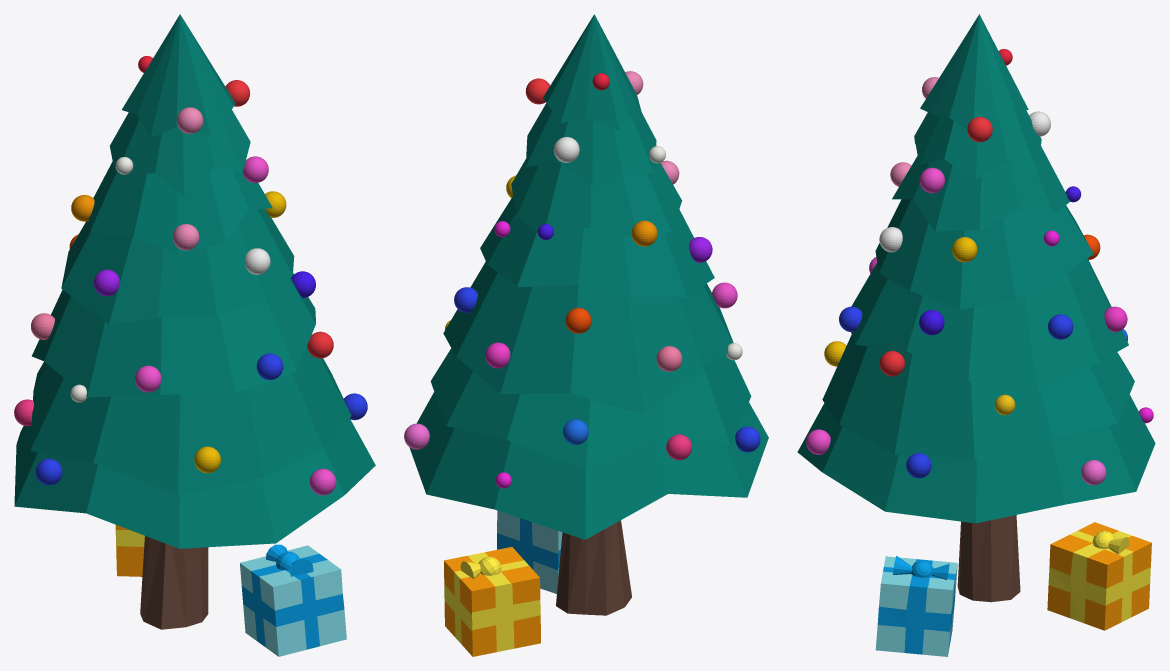
Rendered from treewithlight.glb.
3 renders of one model, left to right at view 1: azimuth 30°, elevation 25°; view 2: azimuth 150°, elevation 25°; view 3: azimuth 270°, elevation 25°, orthographic. The views are drawn at different scales.
Visible parts, largest first — view 1: node_MeshObject-1892698176-PolyPaper11, node_MeshObject750795776-PolyPaper8, Sphere.011, Sphere.026, Sphere.024, Sphere.014, Sphere.005, Sphere.030, Sphere.010, Sphere.018, Sphere.001, Sphere.004 (+1 smaller); view 2: node_MeshObject-1892698176-PolyPaper11, node_MeshObject750795776-PolyPaper8, Sphere.007, Sphere.008, Sphere.006, Sphere.019, Sphere.013, Sphere.025, Sphere.002, Sphere.026, Sphere.021, Sphere.014; view 3: node_MeshObject-1892698176-PolyPaper11, node_MeshObject750795776-PolyPaper8, Sphere.003, Sphere.015, Sphere.019, Sphere.009, Sphere.018, Sphere.020, Sphere.017, Sphere.029.
Boxes of the visible parts, <box> form: node_MeshObject-1892698176-PolyPaper11: <box>14,14,375,629</box>; node_MeshObject750795776-PolyPaper8: <box>115,525,346,656</box>; Sphere.011: <box>194,446,220,473</box>; Sphere.026: <box>36,458,62,485</box>; Sphere.024: <box>176,107,203,133</box>; Sphere.014: <box>135,365,161,392</box>; Sphere.005: <box>172,224,199,250</box>; Sphere.030: <box>309,468,336,495</box>; Sphere.010: <box>256,353,283,379</box>; Sphere.018: <box>307,331,333,358</box>; Sphere.001: <box>244,248,270,274</box>; Sphere.004: <box>93,269,119,296</box>; node_MeshObject-1892698176-PolyPaper11: <box>409,14,768,615</box>; node_MeshObject750795776-PolyPaper8: <box>444,510,562,656</box>; Sphere.007: <box>656,346,682,371</box>; Sphere.008: <box>631,220,657,246</box>; Sphere.006: <box>565,308,591,333</box>; Sphere.019: <box>404,423,429,449</box>; Sphere.013: <box>666,434,692,460</box>; Sphere.025: <box>553,137,579,162</box>; Sphere.002: <box>563,419,588,444</box>; Sphere.026: <box>735,426,760,452</box>; Sphere.021: <box>485,342,510,368</box>; Sphere.014: <box>712,282,737,308</box>; node_MeshObject-1892698176-PolyPaper11: <box>797,14,1155,602</box>; node_MeshObject750795776-PolyPaper8: <box>875,522,1151,656</box>; Sphere.003: <box>919,167,944,193</box>; Sphere.015: <box>952,237,977,262</box>; Sphere.019: <box>1081,460,1106,485</box>; Sphere.009: <box>919,310,944,335</box>; Sphere.018: <box>879,351,904,376</box>; Sphere.020: <box>1048,314,1073,339</box>; Sphere.017: <box>967,117,992,142</box>; Sphere.029: <box>906,453,931,478</box>.
Size of the model in its own units: 0.185 by 0.3307 by 0.1814.
